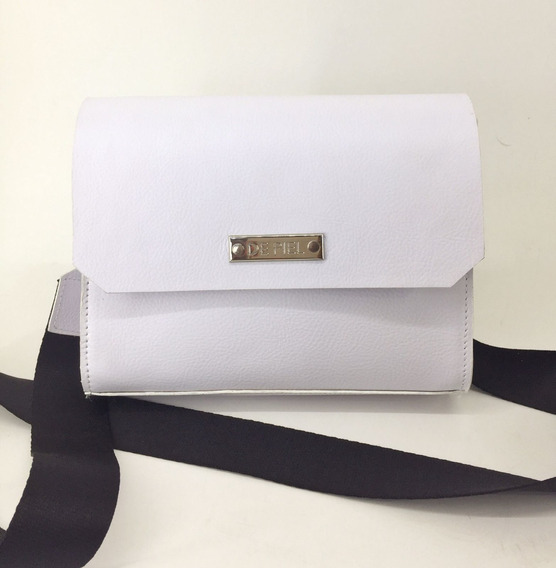cartera: (65, 93, 488, 393)
